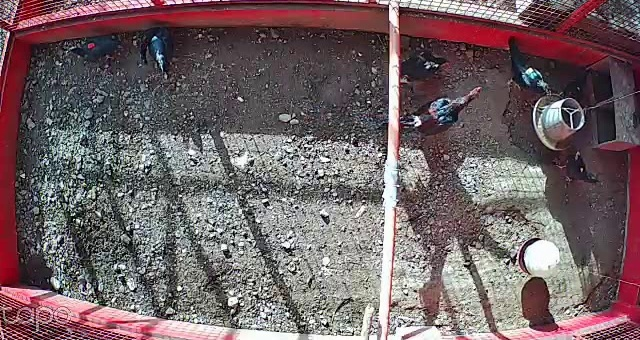Chicken: (496, 34, 553, 99), (141, 24, 181, 82), (65, 32, 126, 69), (553, 149, 605, 191), (389, 53, 448, 88), (556, 66, 597, 105)
Rooster: (376, 80, 486, 137)
Saddle_Color_Red: (88, 43, 95, 48)
Saddle_Color_YellowGreen: (523, 67, 537, 78)
